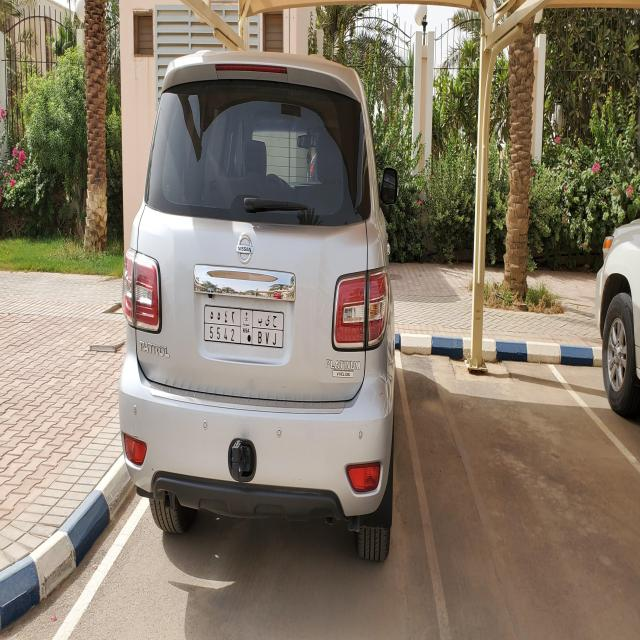license_plate: (202, 302, 285, 353)
